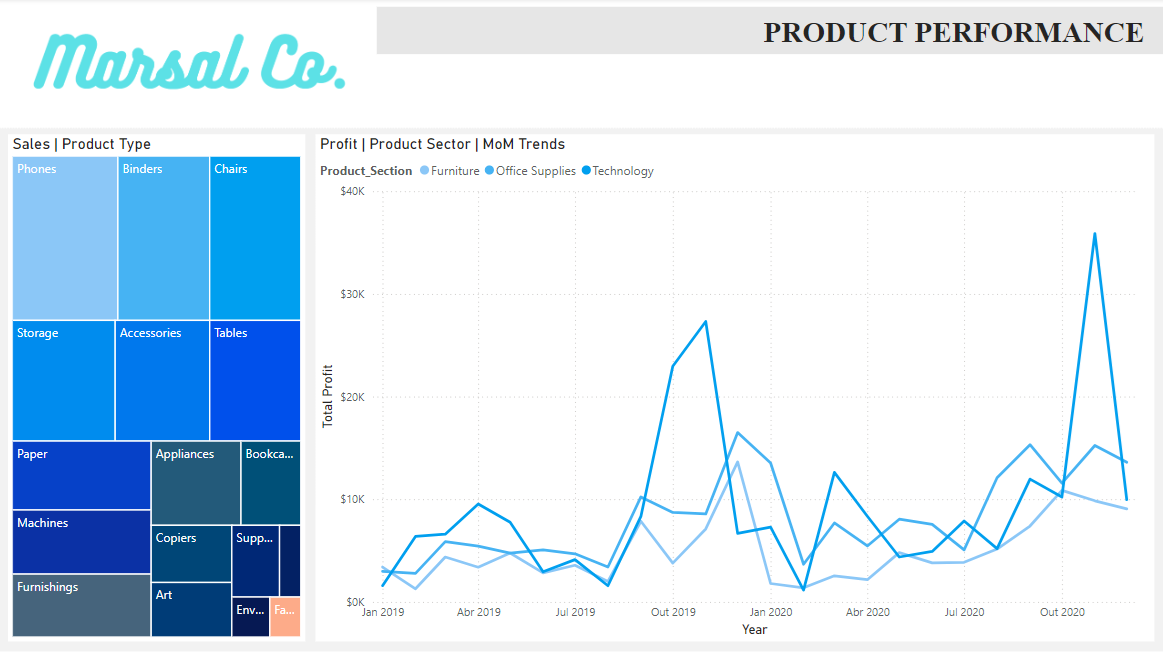

The page's visual inventory and layout, read from the dashboard file:
{"tool":"powerbi","page":{"name":"Product Performance","canvas":[1280,720],"ordinal":3},"visuals":[{"type":"lineChart","title":"Profit | Product Sector | MoM Trends","fields":{"Category":["Dim_Date.Date.Variation.Date Hierarchy.Year","Dim_Date.Date.Variation.Date Hierarchy.Month"],"Series":["Dim_Product.Product_Section"],"Y":["_Measures.Total Profit"]},"box":[348.5,149.6,920.8,557.1],"z":0},{"type":"treemap","title":"Sales | Product Type","fields":{"Group":["Dim_Product.Product_Type"],"Values":["_Measures.Total Sales"]},"box":[11,149.6,326.6,557.1],"z":1000},{"type":"image","box":[11,9.6,391.1,124.9],"z":2000},{"type":"shape","box":[415.5,9.6,864.5,52.1],"z":2001},{"type":"textbox","box":[786.3,9.6,494,52.1],"z":2002}]}

Visuals, with their boxes in screenshot pixels (x1, y1, x2, y2), scaled from the page's 1280x720 canvas onto the 1163x654 screenshot:
"Profit | Product Sector | MoM Trends" lineChart: bbox=(317, 136, 1153, 642)
"Sales | Product Type" treemap: bbox=(10, 136, 307, 642)
image: bbox=(10, 9, 365, 122)
shape: bbox=(378, 9, 1162, 56)
textbox: bbox=(714, 9, 1162, 56)
